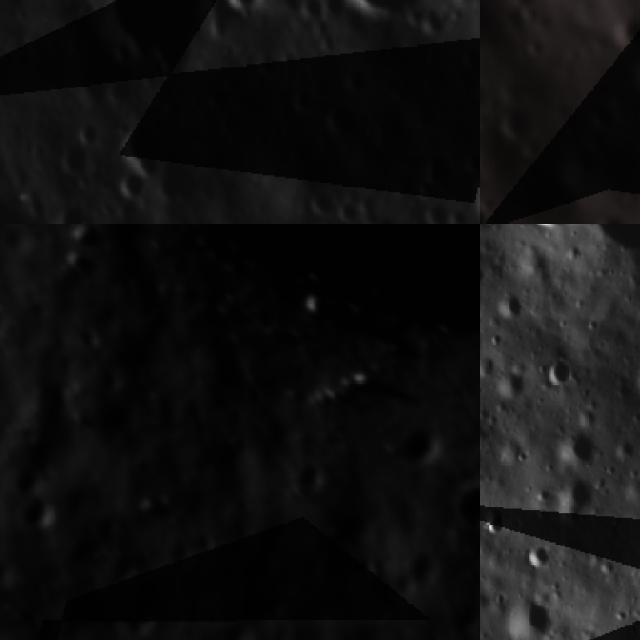crater: (95, 0, 204, 67), (117, 119, 170, 184), (559, 473, 622, 518), (499, 589, 554, 640), (320, 91, 367, 150), (384, 423, 442, 466), (413, 140, 459, 189), (534, 348, 580, 397), (446, 477, 480, 542), (552, 422, 599, 468), (327, 0, 425, 22), (495, 100, 540, 146), (288, 456, 327, 502), (15, 499, 56, 542), (302, 184, 341, 224), (491, 287, 530, 326), (284, 72, 318, 115), (608, 4, 640, 47), (522, 540, 560, 576), (585, 102, 622, 138), (72, 112, 103, 154), (250, 44, 286, 80), (416, 193, 453, 224), (255, 590, 288, 624), (12, 462, 43, 496), (480, 504, 508, 541), (49, 199, 90, 224), (520, 224, 581, 240), (216, 0, 264, 18), (352, 554, 380, 584), (218, 109, 246, 138), (455, 41, 480, 73), (626, 351, 640, 408), (220, 71, 249, 98), (334, 192, 358, 224), (216, 621, 255, 640), (628, 44, 640, 101), (388, 84, 414, 110), (463, 147, 480, 186), (248, 127, 274, 151), (586, 211, 632, 224), (516, 0, 542, 22)
